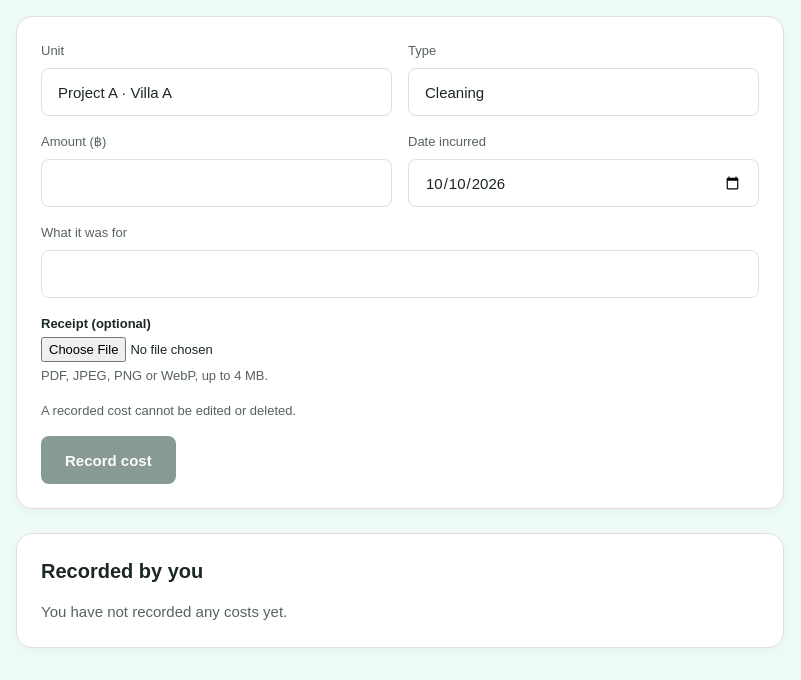
Test: RecordCostClient › does not promise inclusion for a draft report that cannot include it yet
The width and height of the screenshot is (801, 680).
Type "1250.50" into the field labelled "Amount (฿)" at [216, 183], box x1=41 y1=159 x2=392 y2=207
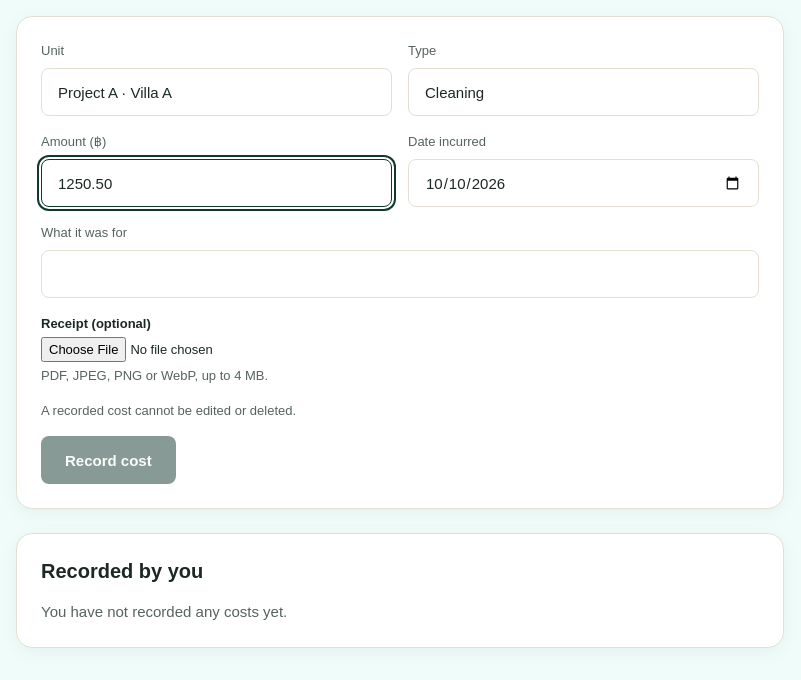
Type "Deep clean" into the field labelled "What it was for" at [400, 274], box x1=41 y1=250 x2=759 y2=298
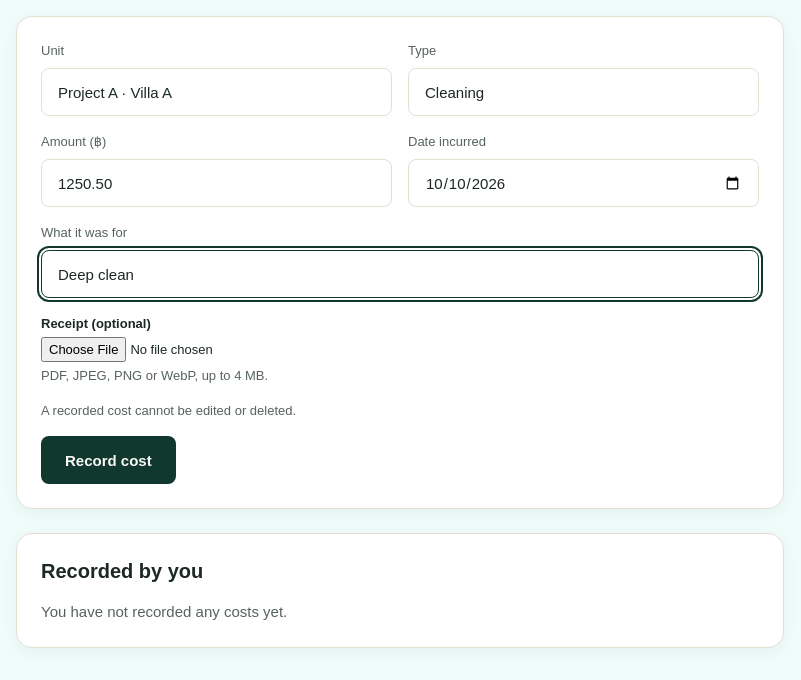
Click the button "Record cost" at [108, 460], box x1=41 y1=436 x2=176 y2=484
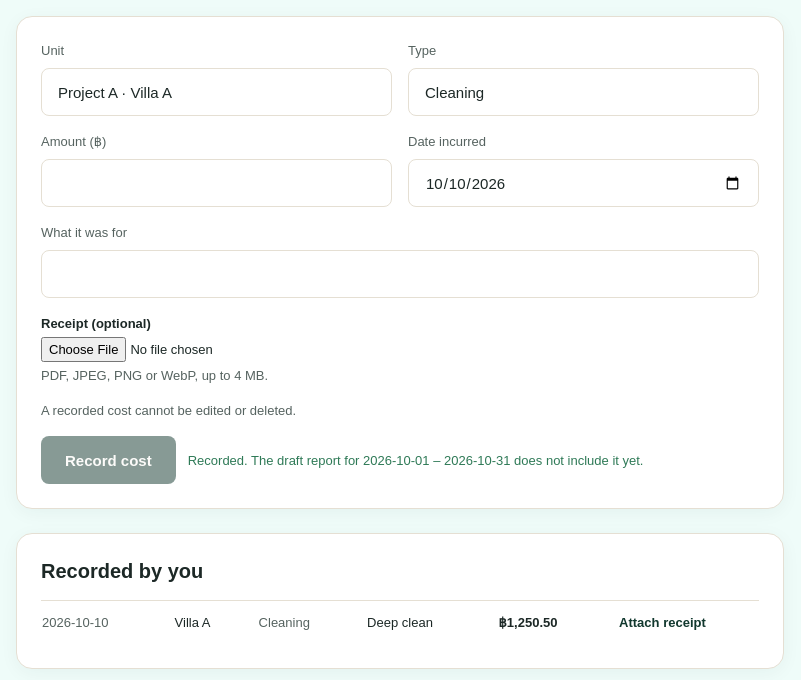
Expected: the message shows "does not include it yet", x1=188 y1=452 x2=644 y2=468
Expected: the message shows "2026-10-01 – 2026-10-31", x1=188 y1=452 x2=644 y2=468
